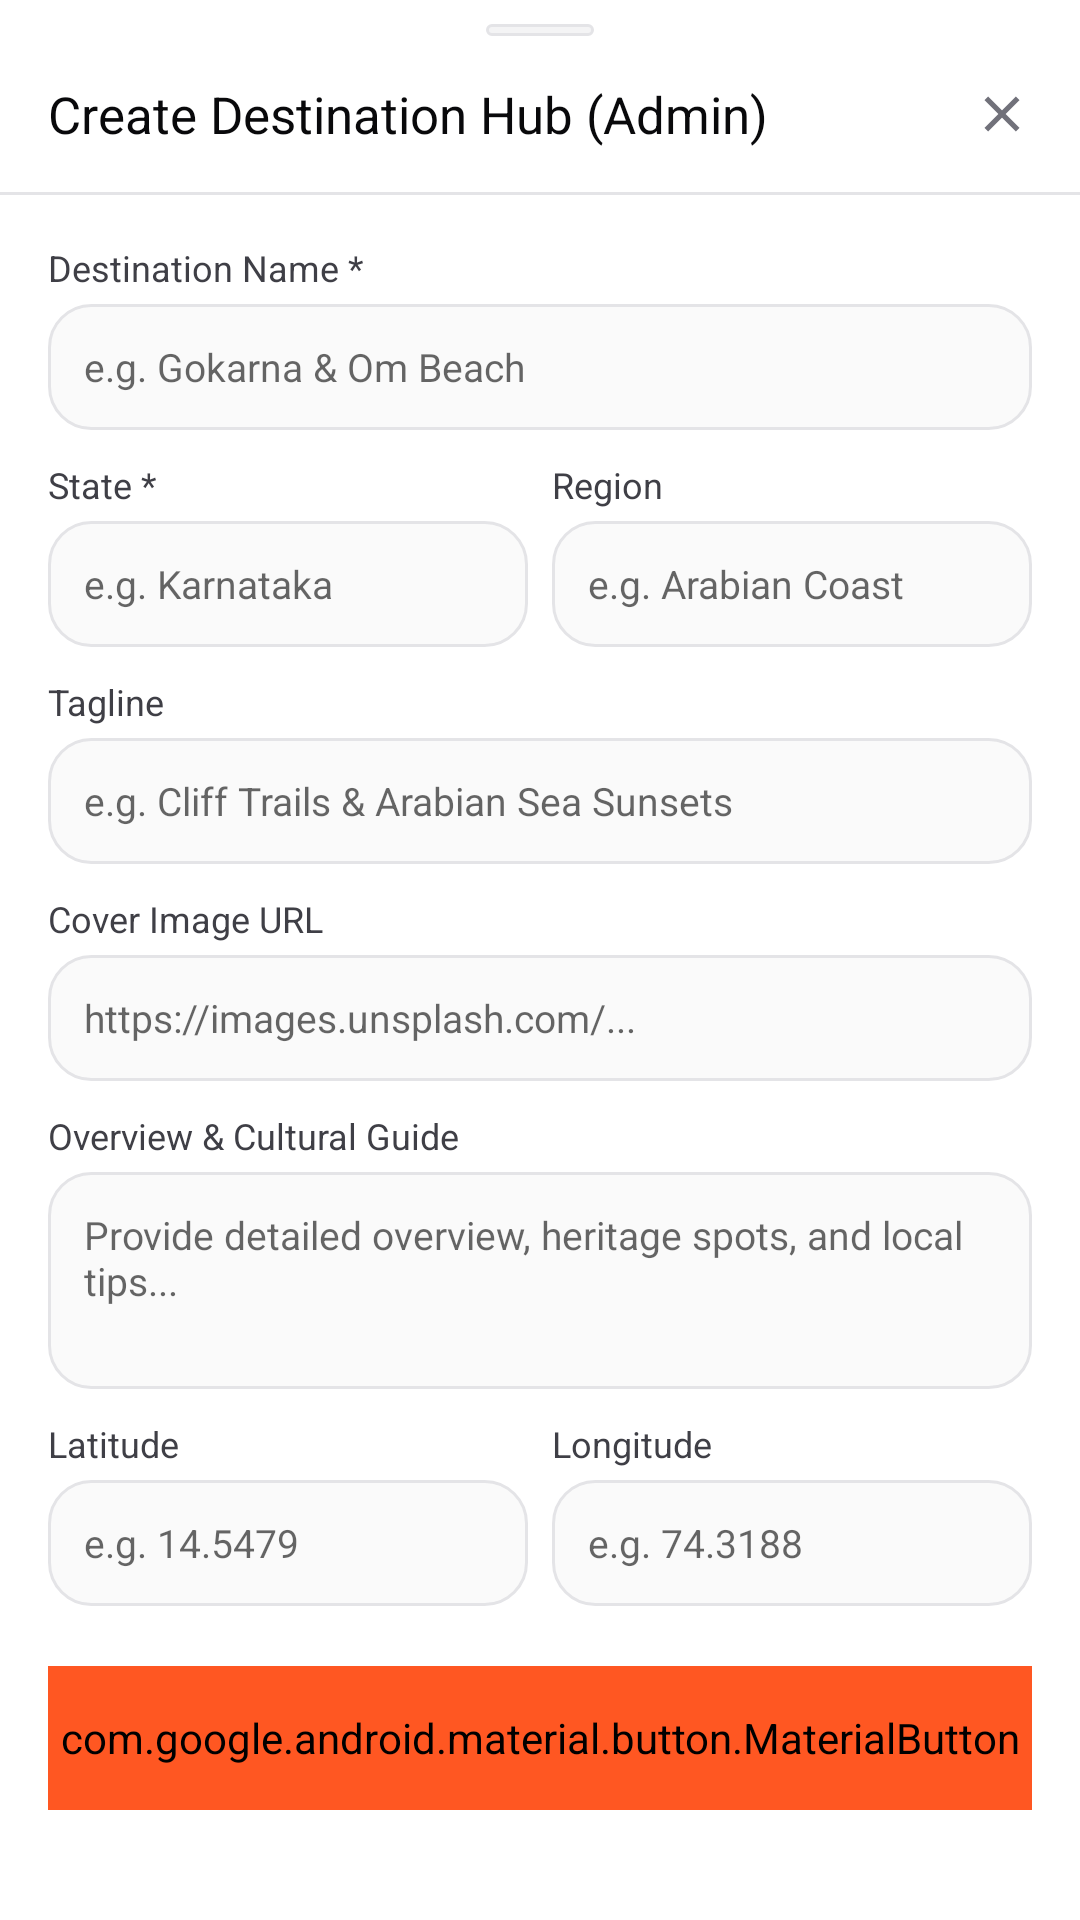

Icon click points for this 1080 x 1920 phone screenshot, format [x,y]:
Close: [1002,114]
